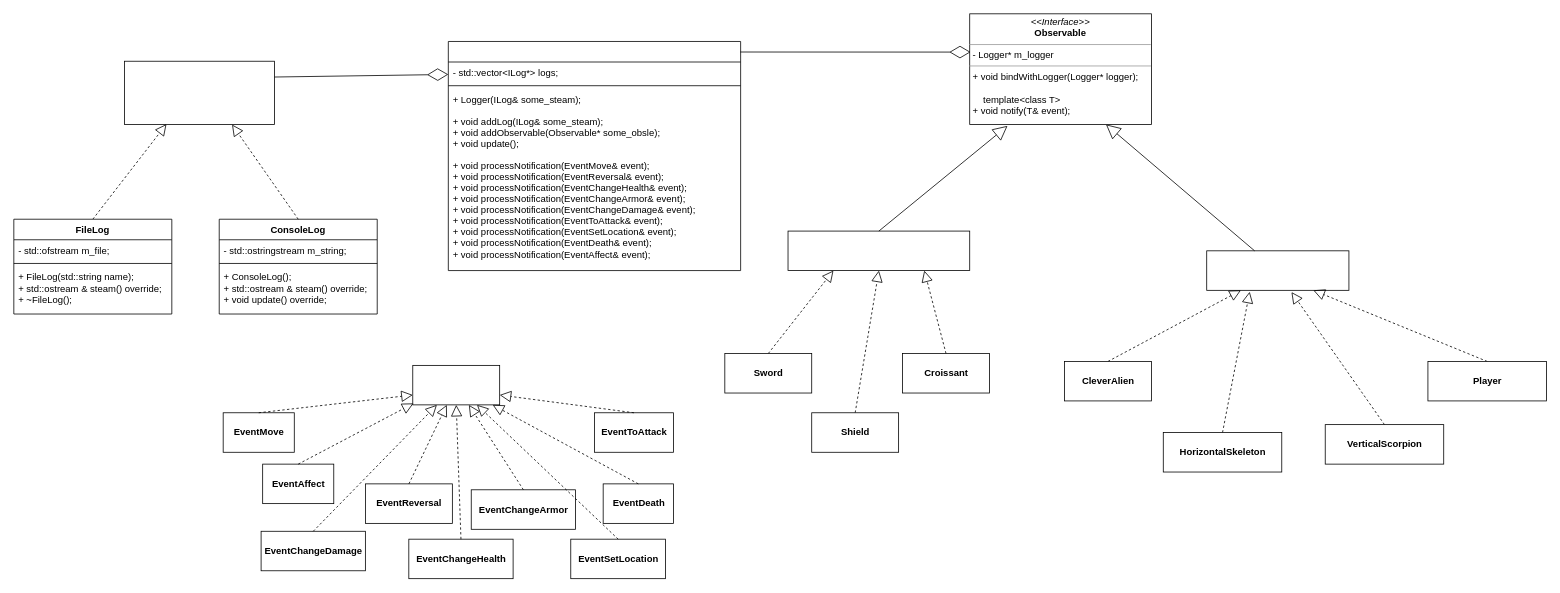
Some shapes in this 1560 by 593 pixel diagram are drawn without their labels. Here are the shapes that lost their labels. From the top down, the box of each, then its label:
(124, 60, 275, 124): <<Interface>> ILog + std::ostream& steam() = 0; + void update() ;
(448, 41, 741, 271): FileLogger
(787, 230, 970, 271): <<Interface>> IItem
(1206, 250, 1349, 290): <<Interface>> ICreature
(412, 365, 500, 405): «interface» IEvent
